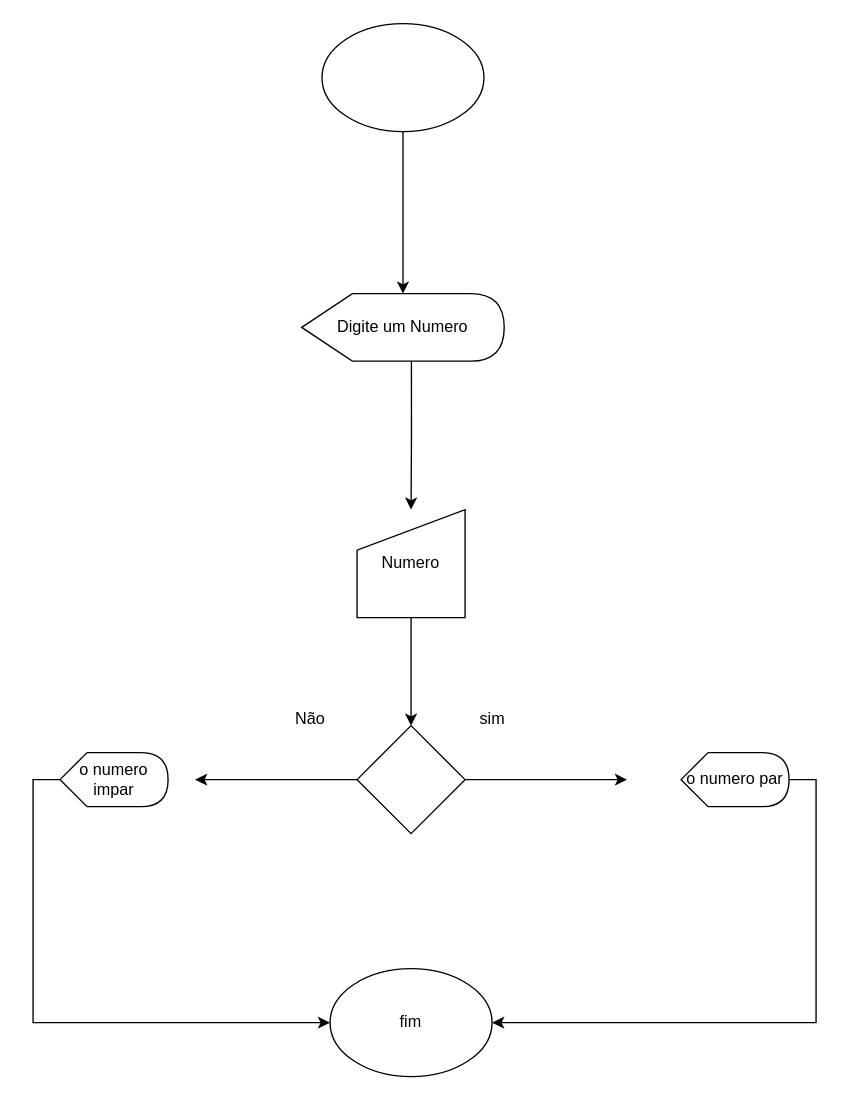
Some shapes in this 851 by 1100 pixel diagram are drawn without their labels. The shapes that lost their labels are listed below. From the top down, each one's centre as x and y in pixels, then its label:
the point at 402,77: inicio
the point at 410,779: Numero e par ?
